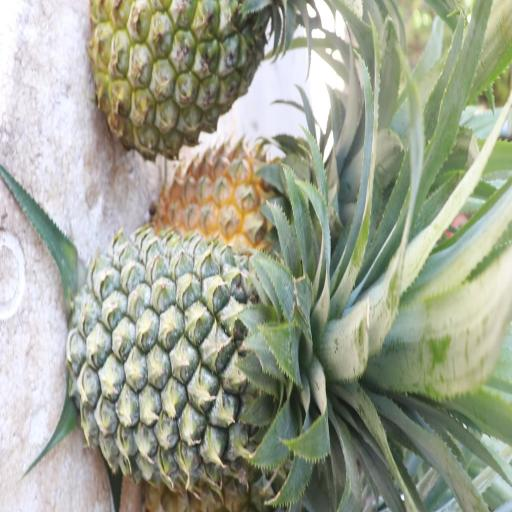------------------------------: (86, 0, 280, 150)
